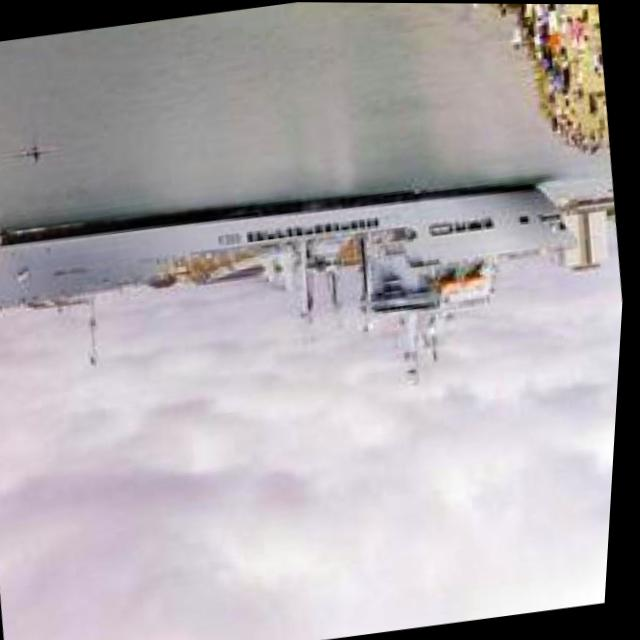ship2: (0, 182, 586, 388)
